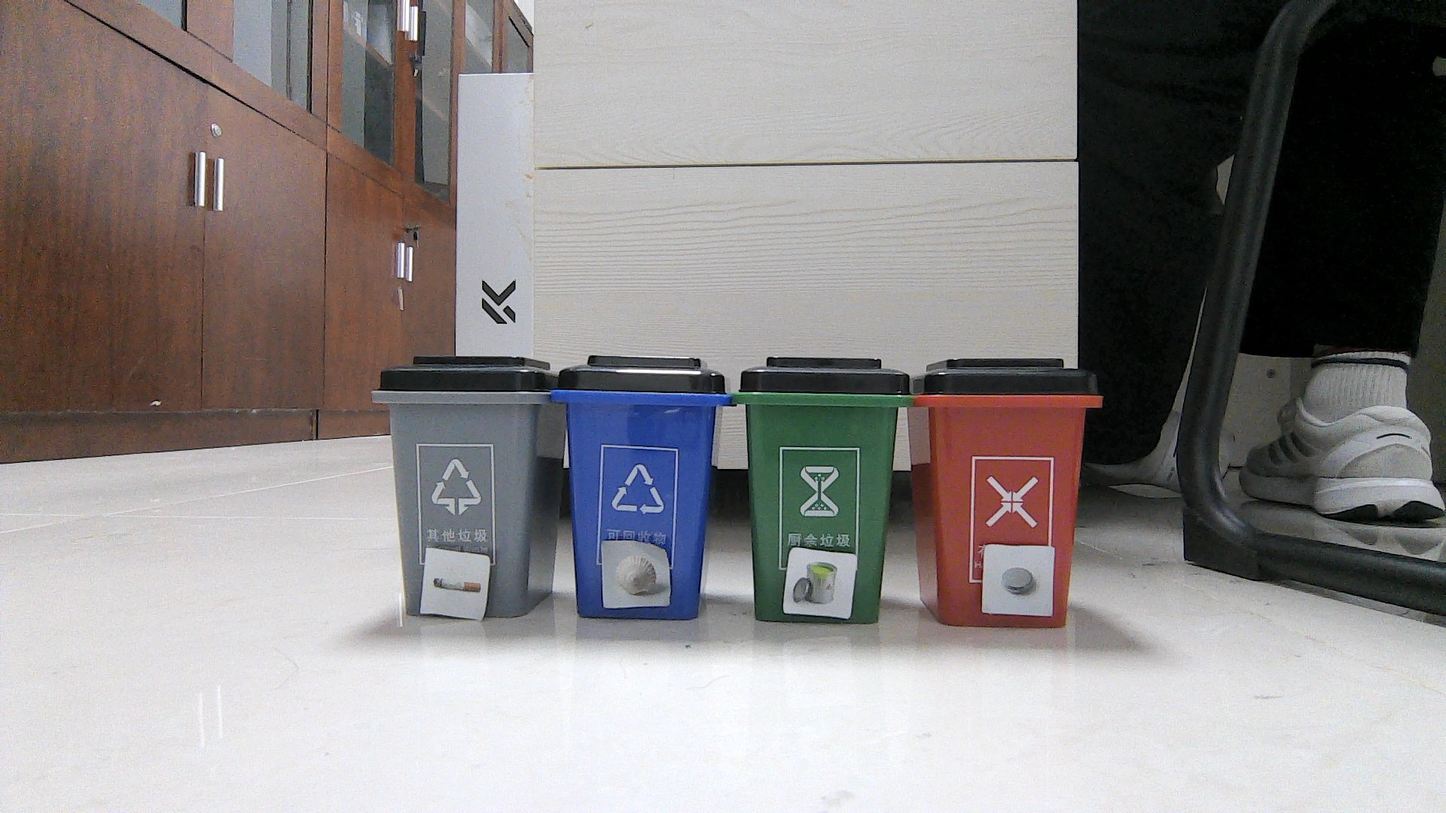hazardous_trash: (987, 550, 1048, 614), (790, 551, 846, 620)
other_trash: (604, 546, 672, 609), (426, 553, 485, 609)
